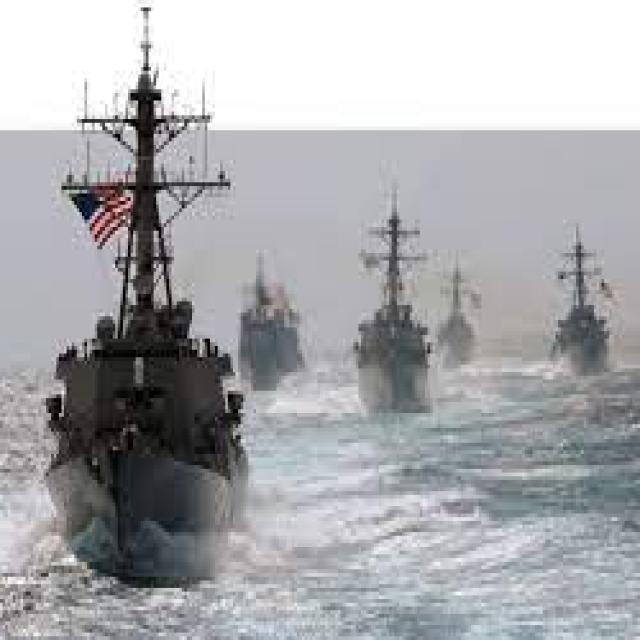navalvessels: (33, 0, 246, 573), (336, 157, 437, 419), (531, 200, 628, 370), (221, 258, 307, 391), (423, 236, 491, 386)
